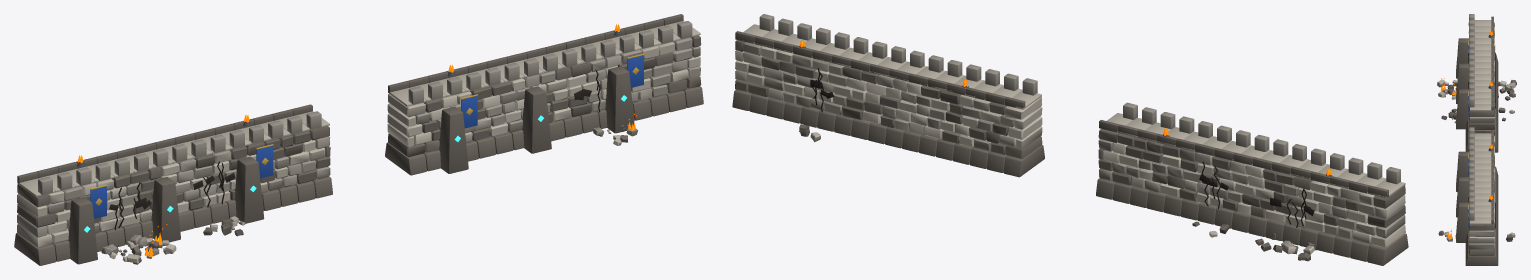
File: mur_front_etap5.glb
3 views of the same model, side by side, from view 1: azimuth 30°, elevation 25°; view 2: azimuth 150°, elevation 25°; view 3: azimuth 270°, elevation 25° (orthographic). The views are drawn at different scales.
Parts seen in each view (by area): view 1: mur_front_etap5; view 2: mur_front_etap5; view 3: mur_front_etap5.
Part boxes in pixels (bbox=[...]): mur_front_etap5: bbox=[14, 14, 703, 265]; mur_front_etap5: bbox=[732, 14, 1408, 265]; mur_front_etap5: bbox=[1437, 14, 1516, 265].
Size of the model in its own units: 52.01 by 6.28 by 8.63.
